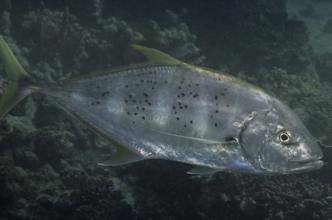Carangidae -Jacks-: (0, 9, 324, 187)
